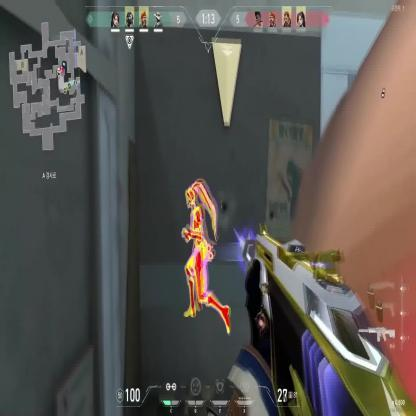enemy: (181, 177, 232, 338)
enemy_head: (185, 186, 195, 209)
